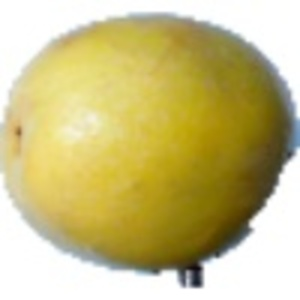maracujá: (1, 12, 300, 288)
